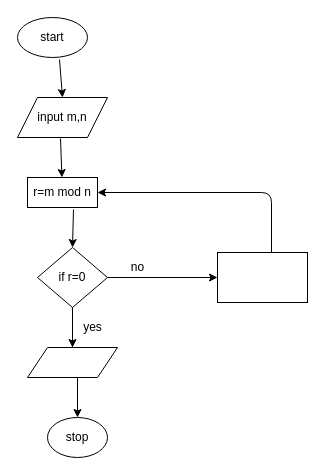
The diagram is 325 pixels wide and 475 high, and some of its shapes have lost their labels. Each missing label, with the centre of its shape:
"m=n n=r" goes at [262,277].
"output n" goes at [72,362].
